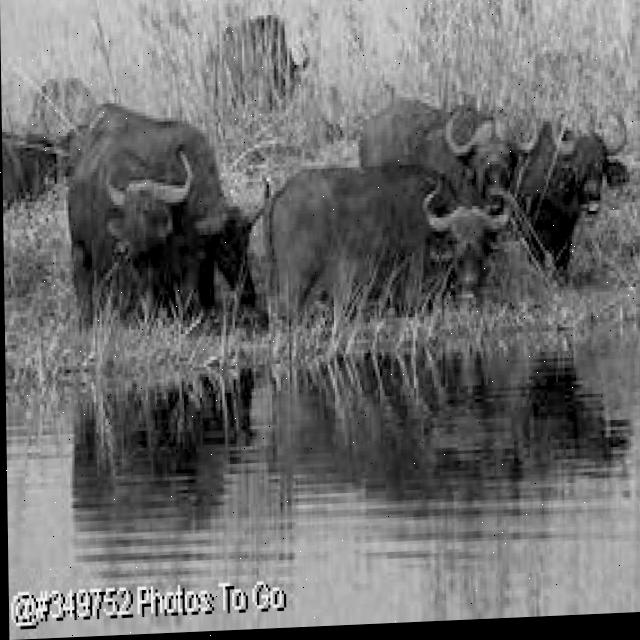Buffalo: (62, 90, 266, 323), (262, 150, 514, 331), (358, 84, 542, 228), (63, 134, 196, 329), (507, 108, 629, 292)
